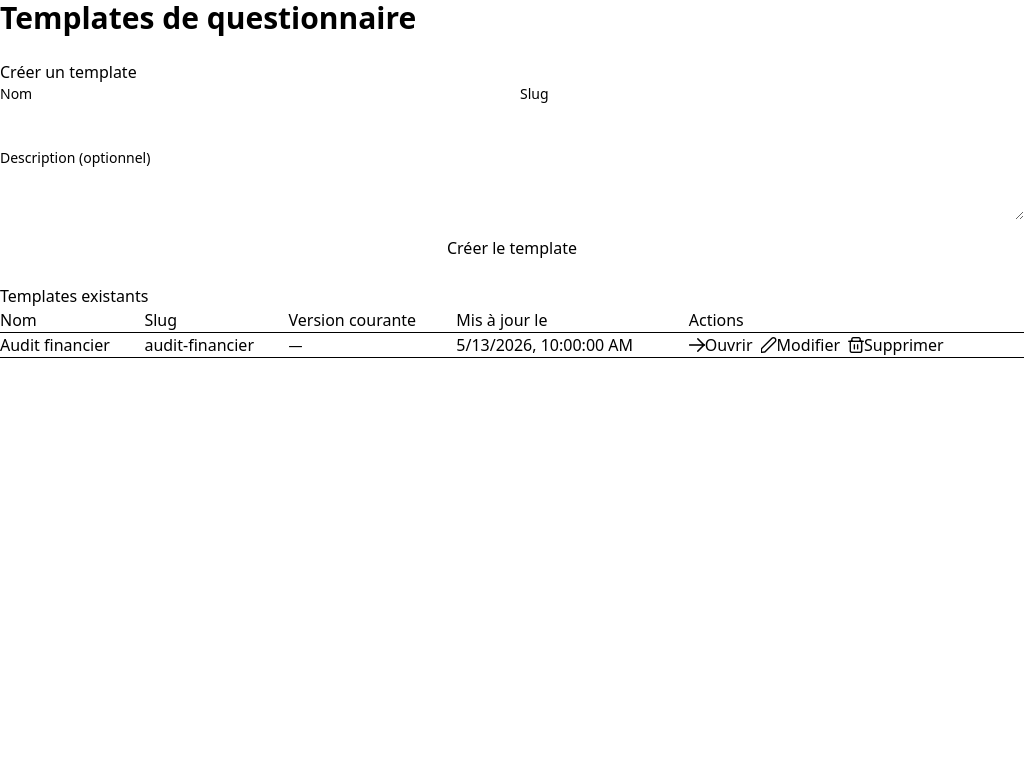
Test: AdminTemplatesView › edits a template via the dialog and refreshes
Click the button with test id "edit-template". click: (800,345)
box: [761, 333, 840, 357]
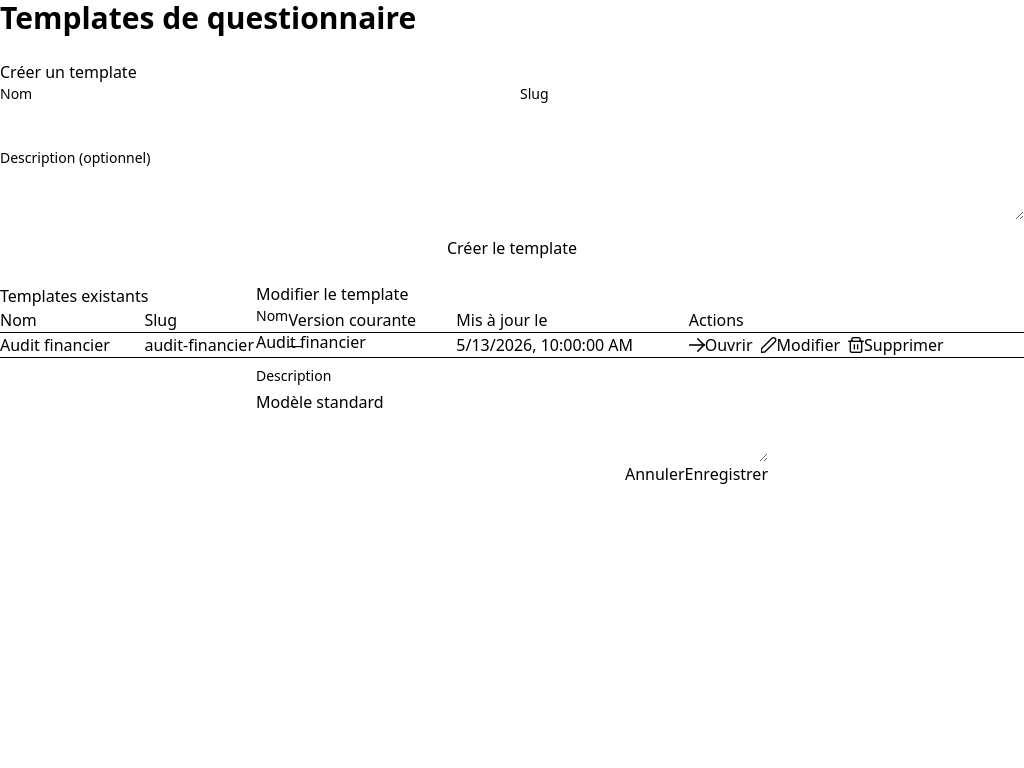
Replace the text in the field labelled "Nom" with "Audit financier 2.0". click: (512,342)
box: [256, 330, 768, 354]
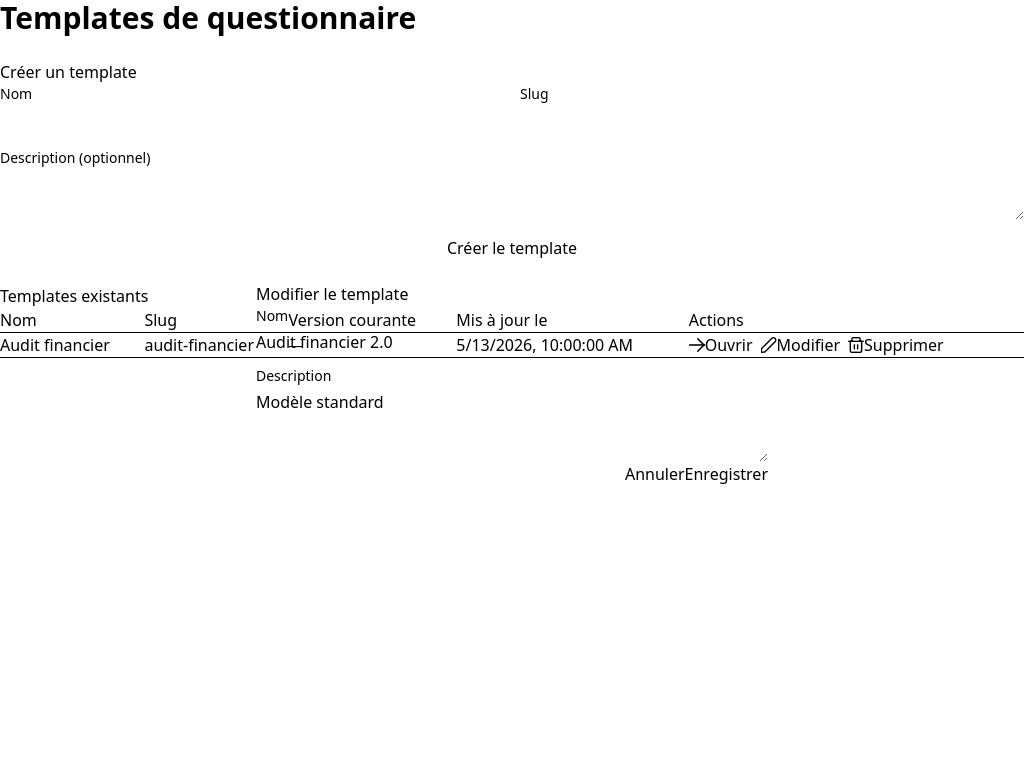
Click the button "Enregistrer". click: (726,474)
box: [685, 462, 768, 486]
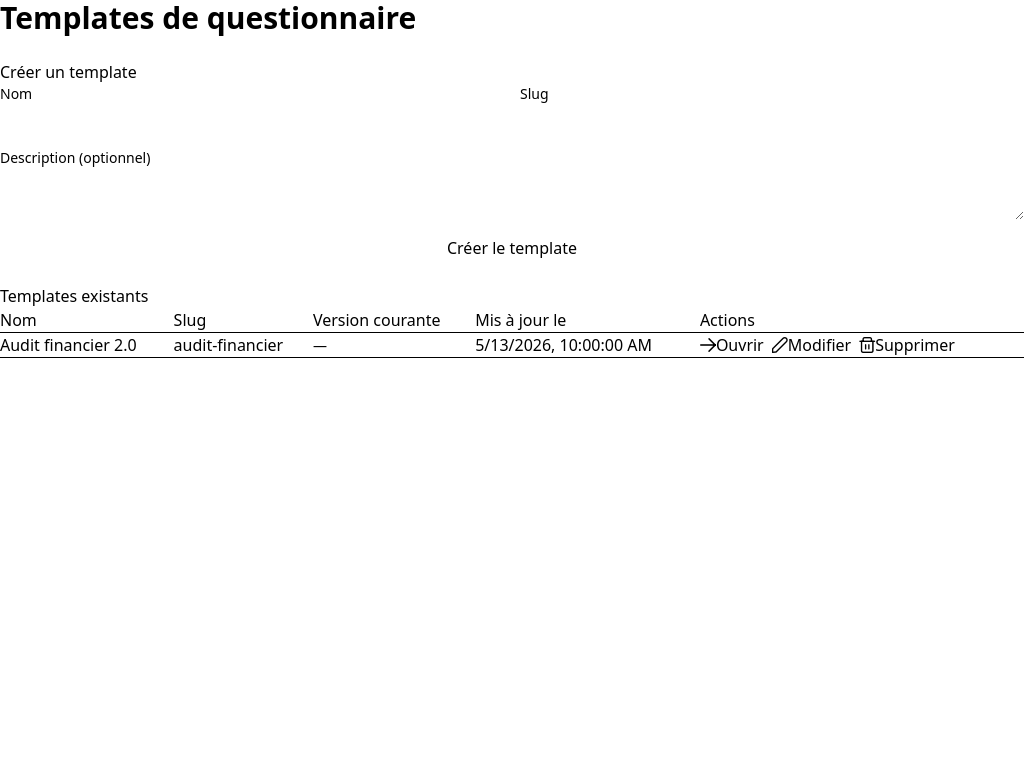
expect the text "Audit financier 2.0" is shown: met, box [0, 333, 174, 358]
